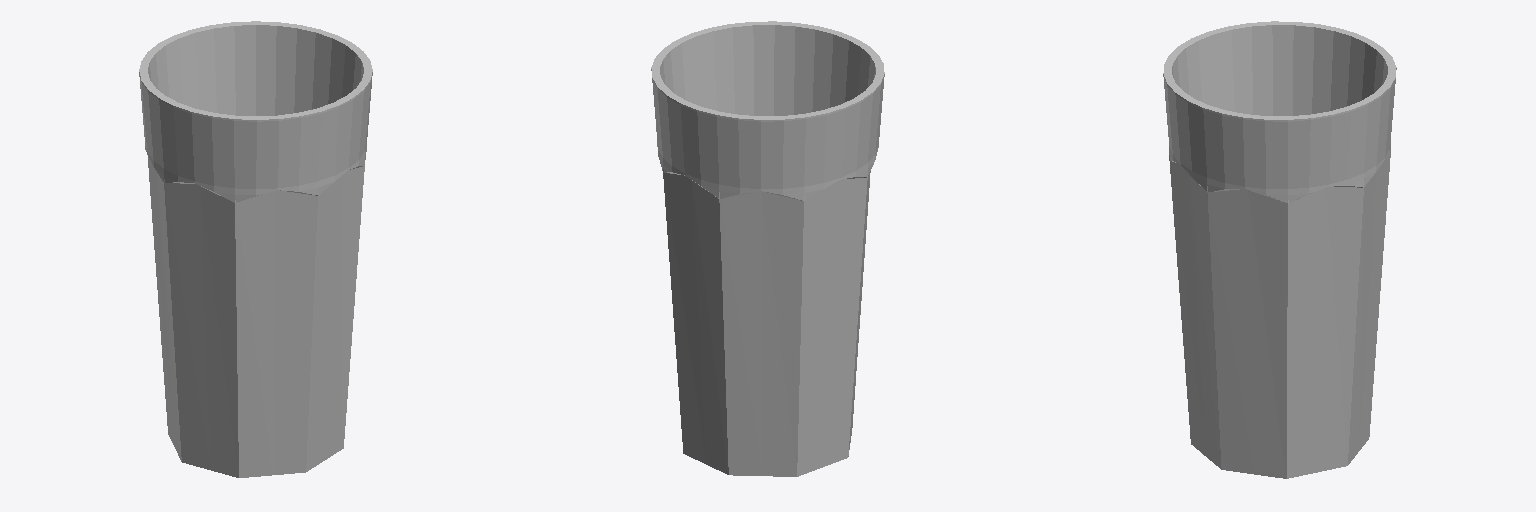
The model's file is Glass_1.obj.
3 renders of one model, left to right at view 1: azimuth 30°, elevation 25°; view 2: azimuth 150°, elevation 25°; view 3: azimuth 270°, elevation 25°, orthographic.
Parts seen in each view (by area): view 1: Glass_1_Cylinder; view 2: Glass_1_Cylinder; view 3: Glass_1_Cylinder.
Part boxes in pixels (left/top/right/bottom): Glass_1_Cylinder: left=139, top=21, right=372, bottom=477; Glass_1_Cylinder: left=651, top=21, right=884, bottom=476; Glass_1_Cylinder: left=1163, top=21, right=1396, bottom=478.
Size of the model in its own units: 0.1249 by 0.219 by 0.1249.